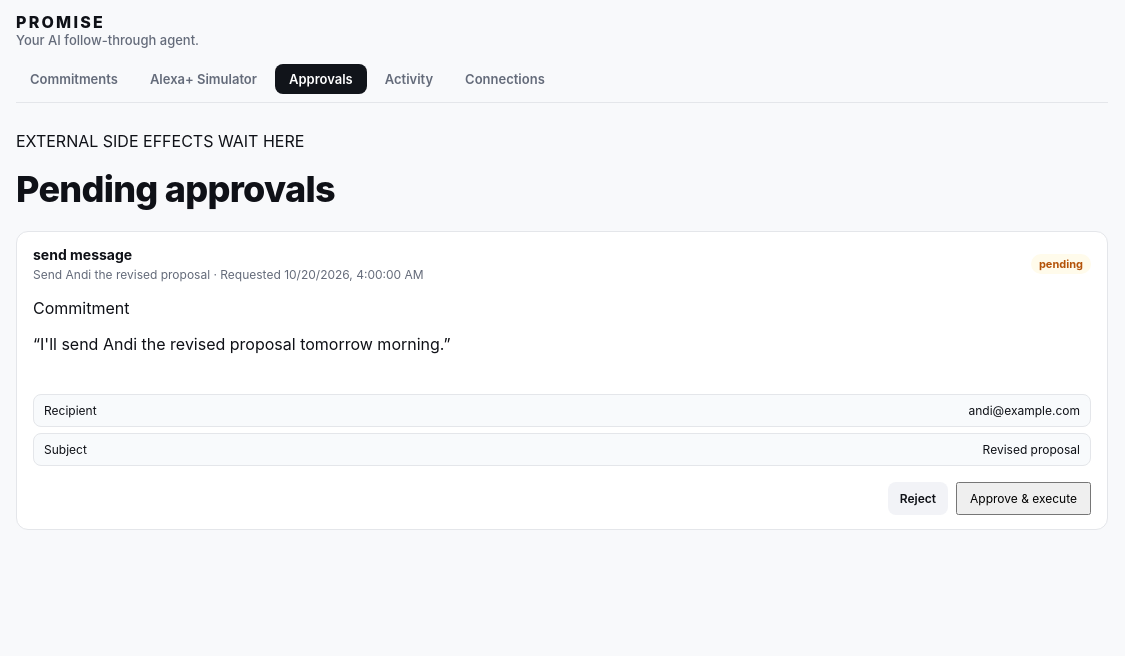
ApprovalsPage – generic error › shows error notice for non-conflict failures
Click the button with test id "btn-approve".
click(1024, 498)  # box [956,482,1091,515]
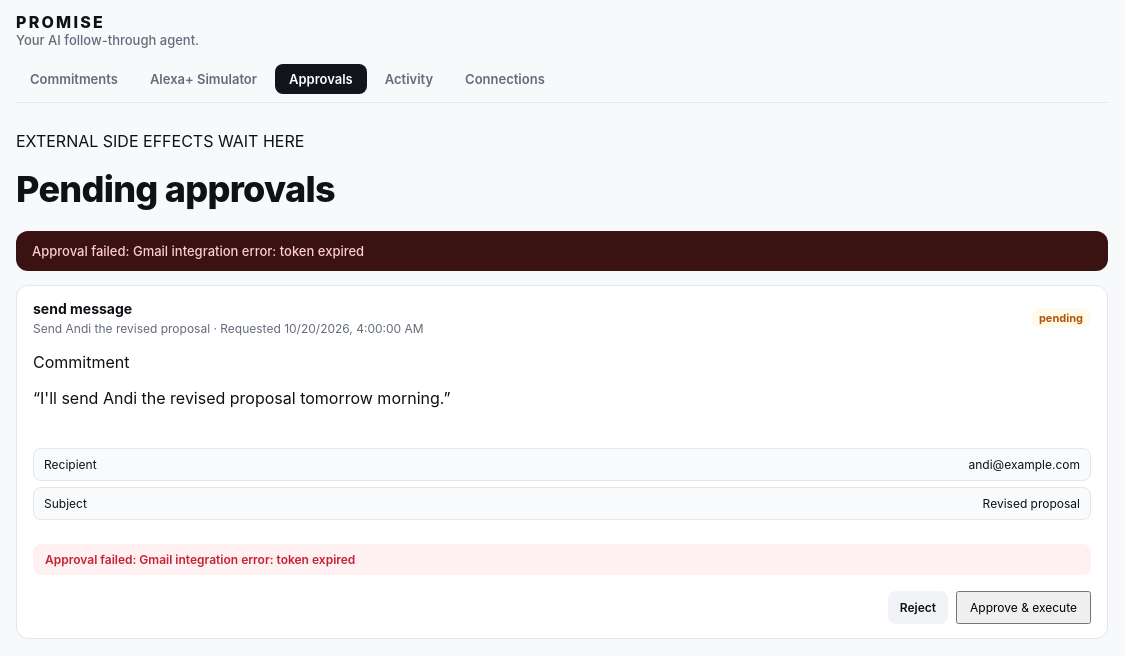
expect the message with test id "page-notice" reads "Approval failed: Gmail integration error: token expired": met, box [32,243,364,259]
